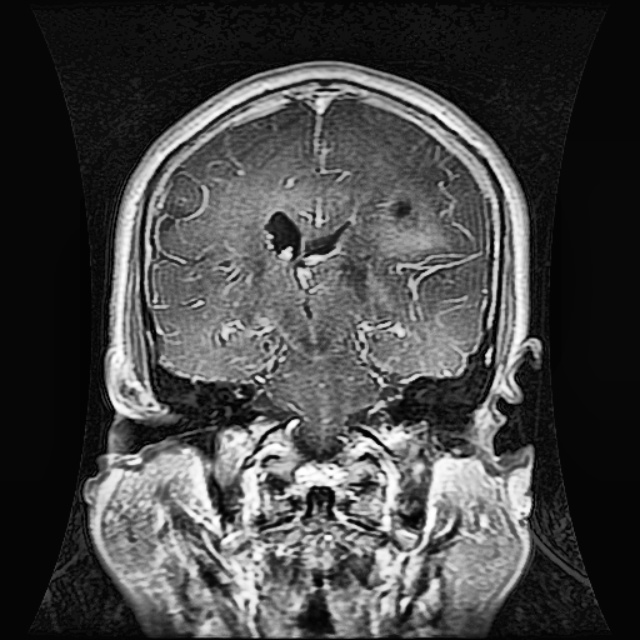Glioma: (375, 189, 425, 234)
